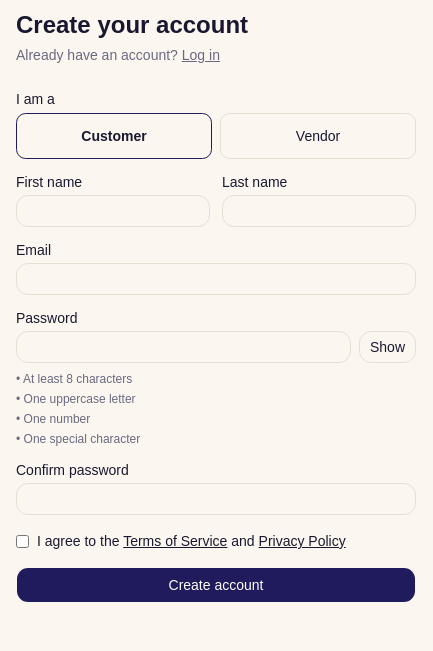
Test: SignupPage › shows the vendor policy checkbox only for vendors
Expected: the text "Vendor Policy" is not shown
Click the radio button labelled "Vendor".
click(318, 136)  # box [220, 113, 416, 159]
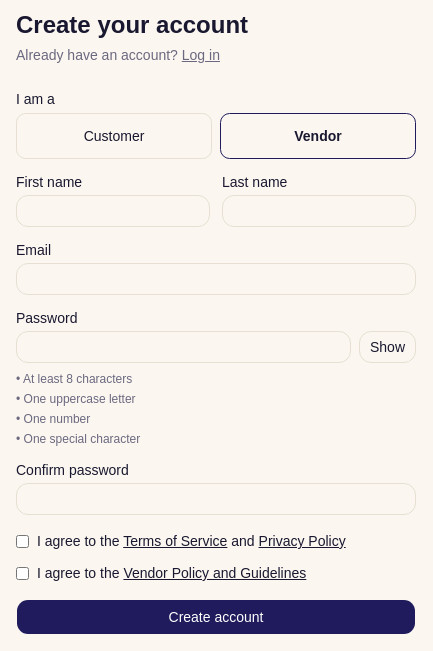
Result: the link "Vendor Policy and Guidelines" is shown at [123, 565, 306, 581]
